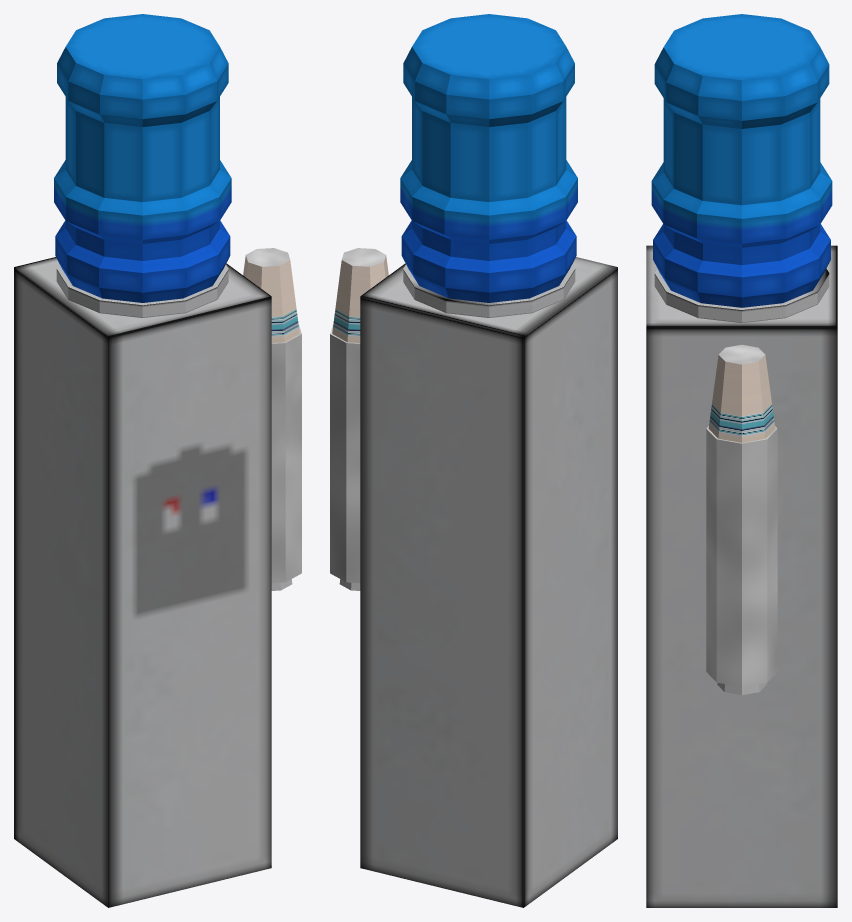
File: WaterCooler.fbx
3 views of the same model, side by side, from view 1: azimuth 30°, elevation 25°; view 2: azimuth 150°, elevation 25°; view 3: azimuth 270°, elevation 25° (orthographic).
Visible parts, largest first — view 1: Cylinder.009; view 2: Cylinder.009; view 3: Cylinder.009.
Part boxes in pixels (left/top/right/bottom): Cylinder.009: left=14, top=14, right=301, bottom=907; Cylinder.009: left=330, top=14, right=617, bottom=907; Cylinder.009: left=646, top=14, right=837, bottom=907.
Bounding box in the file's own units: 217 × 704 × 149.
